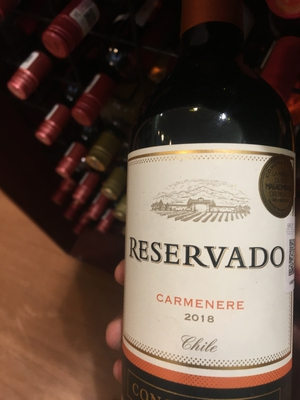reservado carmenere: (124, 14, 300, 395)
